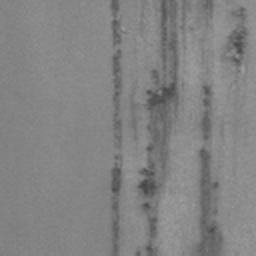Slag inclusion: (127, 0, 216, 211), (192, 146, 228, 256), (110, 0, 124, 256), (221, 6, 250, 68), (200, 82, 212, 142), (146, 216, 157, 242), (143, 241, 157, 256)
